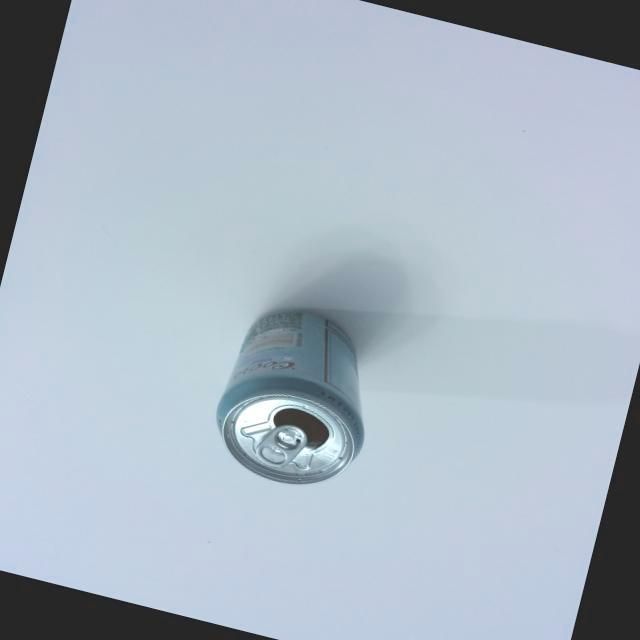metal: (185, 289, 398, 522)
